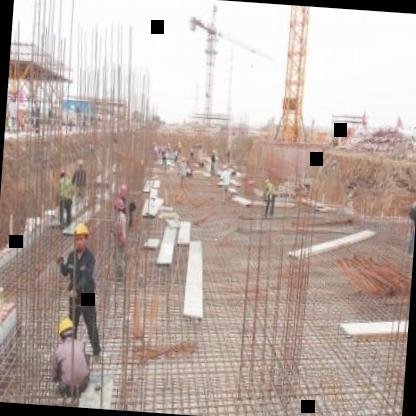helmet: (55, 315, 78, 346), (70, 221, 90, 251)
